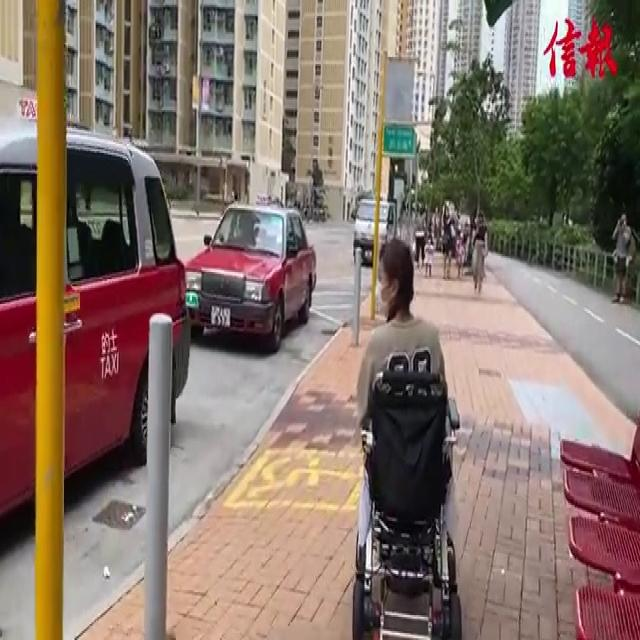wheelchairs: (337, 338, 469, 640)
